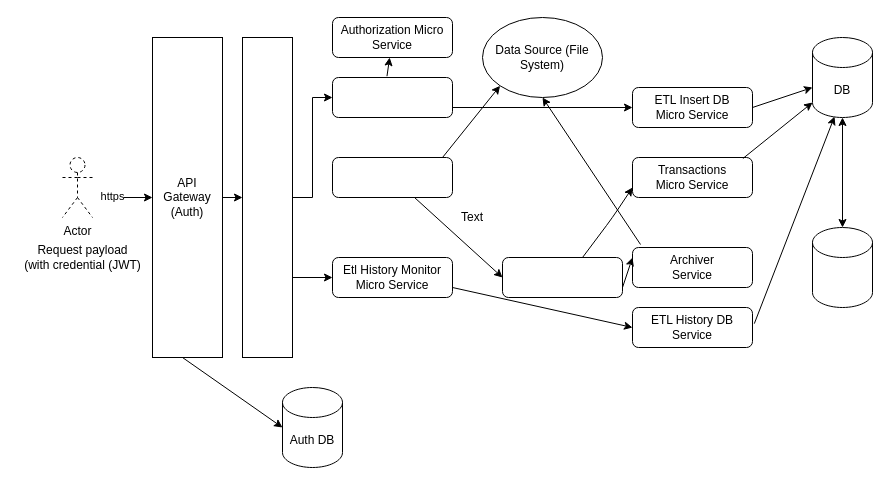
Some shapes in this 891 by 485 pixel diagram are drawn without their labels. Here are the shapes that lost their labels. From the top down, the box of each, then its label:
(332, 76, 452, 118): insert new ETL Micro Service
(242, 36, 292, 358): Load Balancer
(332, 156, 452, 198): ETL Loader Micro Service
(502, 256, 622, 298): Processor Micro Service
(812, 226, 872, 308): DB (replication)
